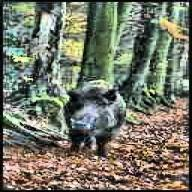boar: (63, 74, 126, 156)
